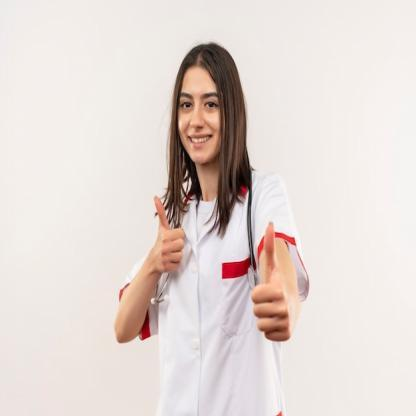thumb_up: (242, 218, 298, 344), (146, 194, 186, 274)
